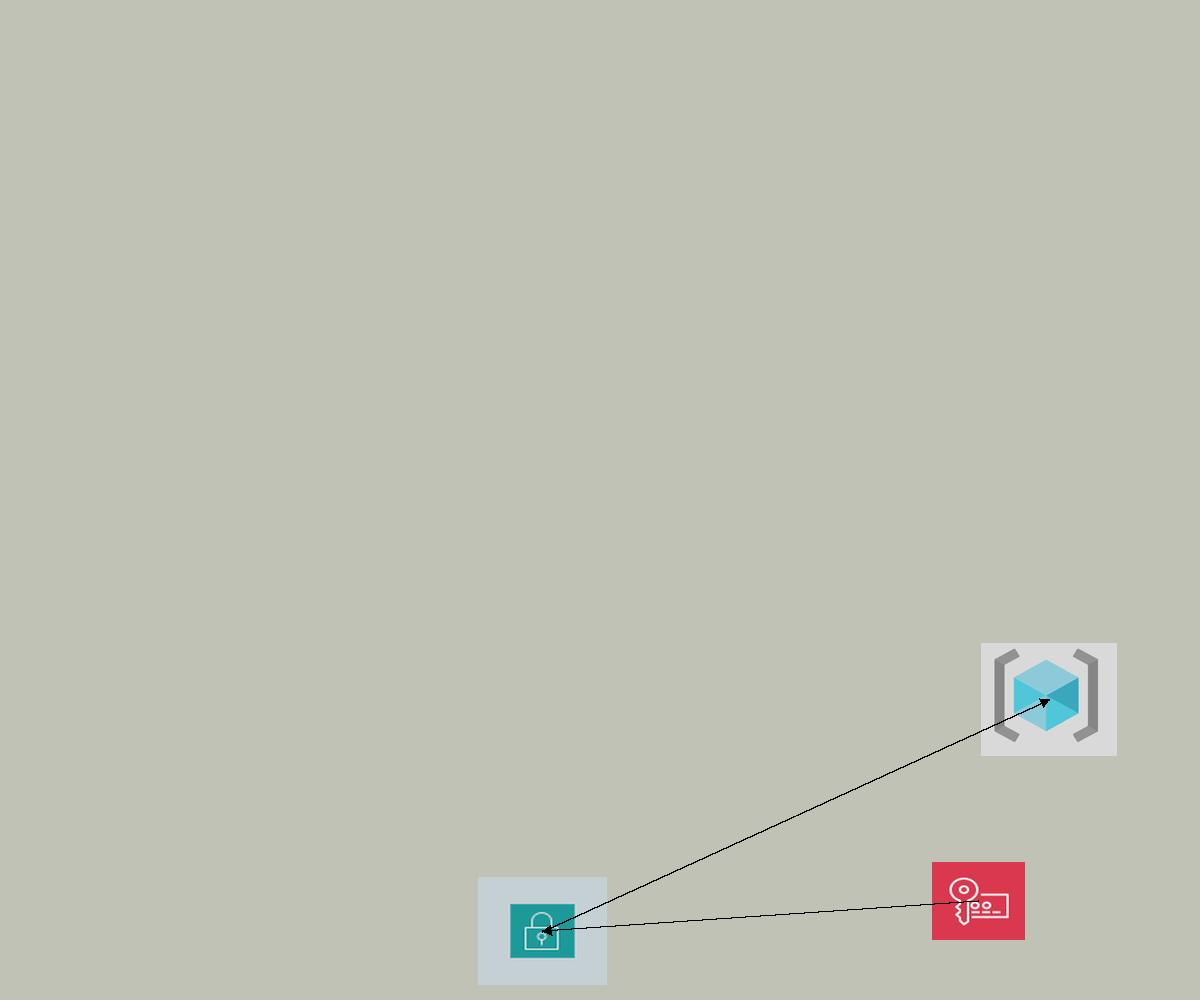AWS-Key-Management-Service: (932, 862, 1025, 940)
AWS-Private-subnet: (478, 877, 607, 985)
Azure_resource_group: (981, 643, 1117, 756)
